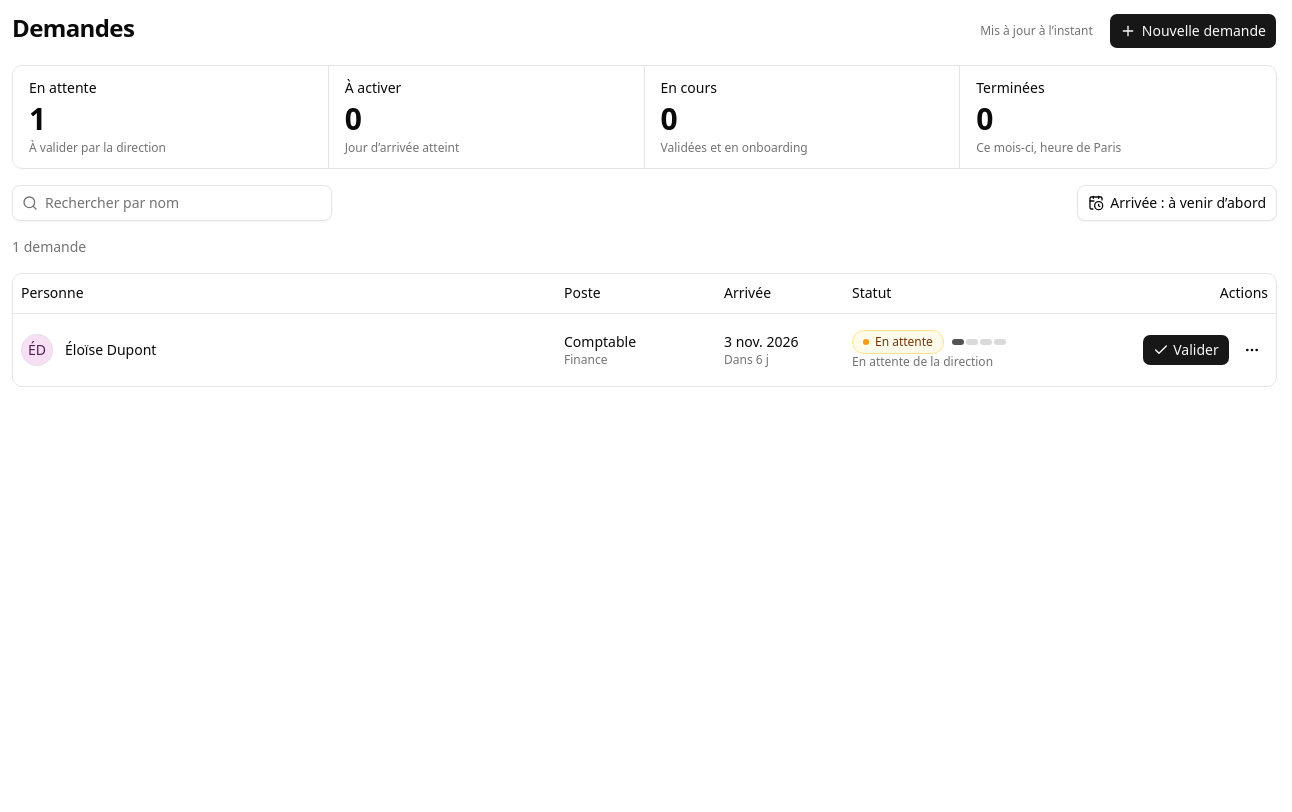
Test: adresse professionnelle (UPN) › adresse absente : rien d’affiché sous le nom, « Non renseigné » dans le détail, pas de bouton Copier
The image size is (1292, 812).
Click the link with aria-label "Voir le détail de la demande de Éloïse Dupont" at (111, 350), box [65,340,156,360]
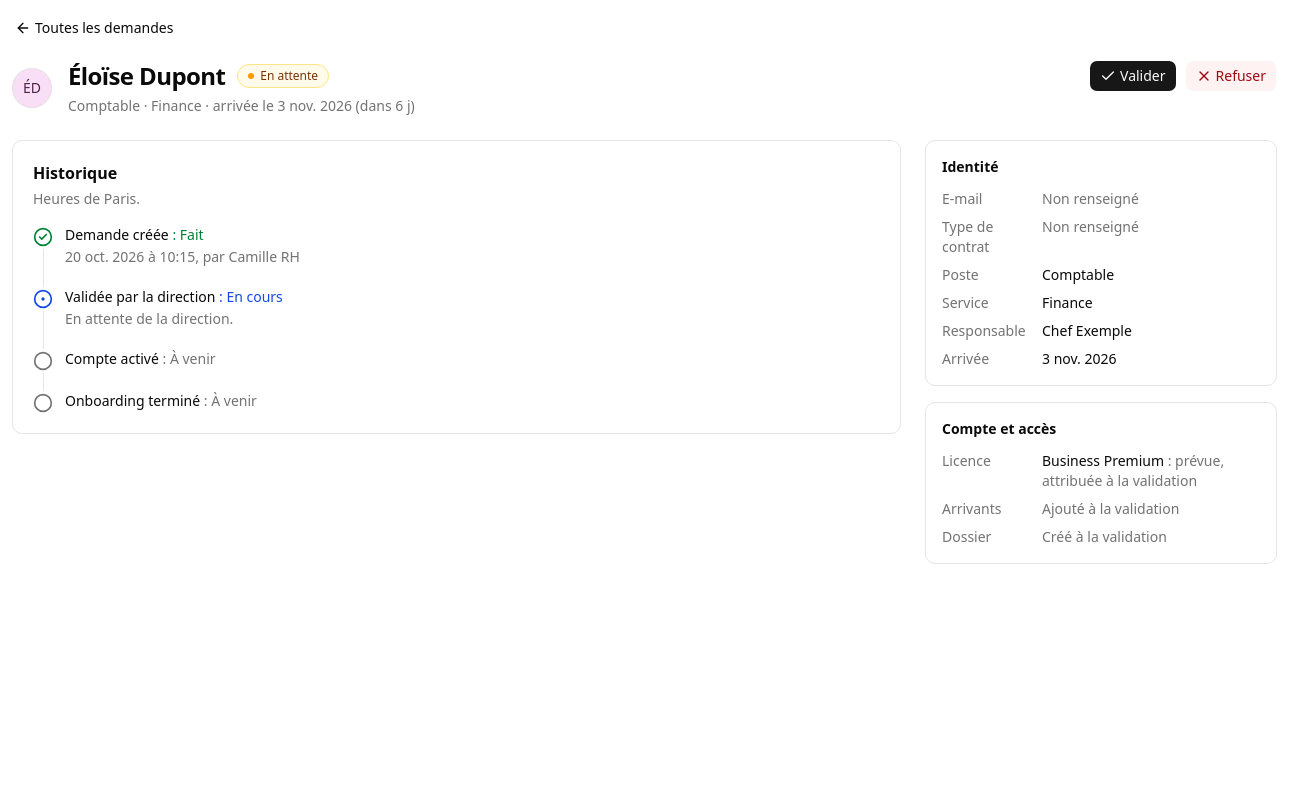
Expected: the 1st element showing "Non renseigné" is shown, [1042,189,1139,208]
